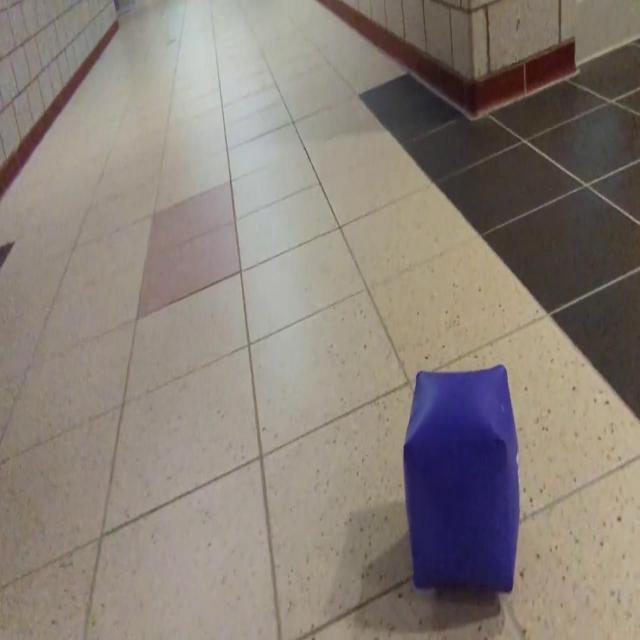frc_cube: (403, 364, 521, 594)
